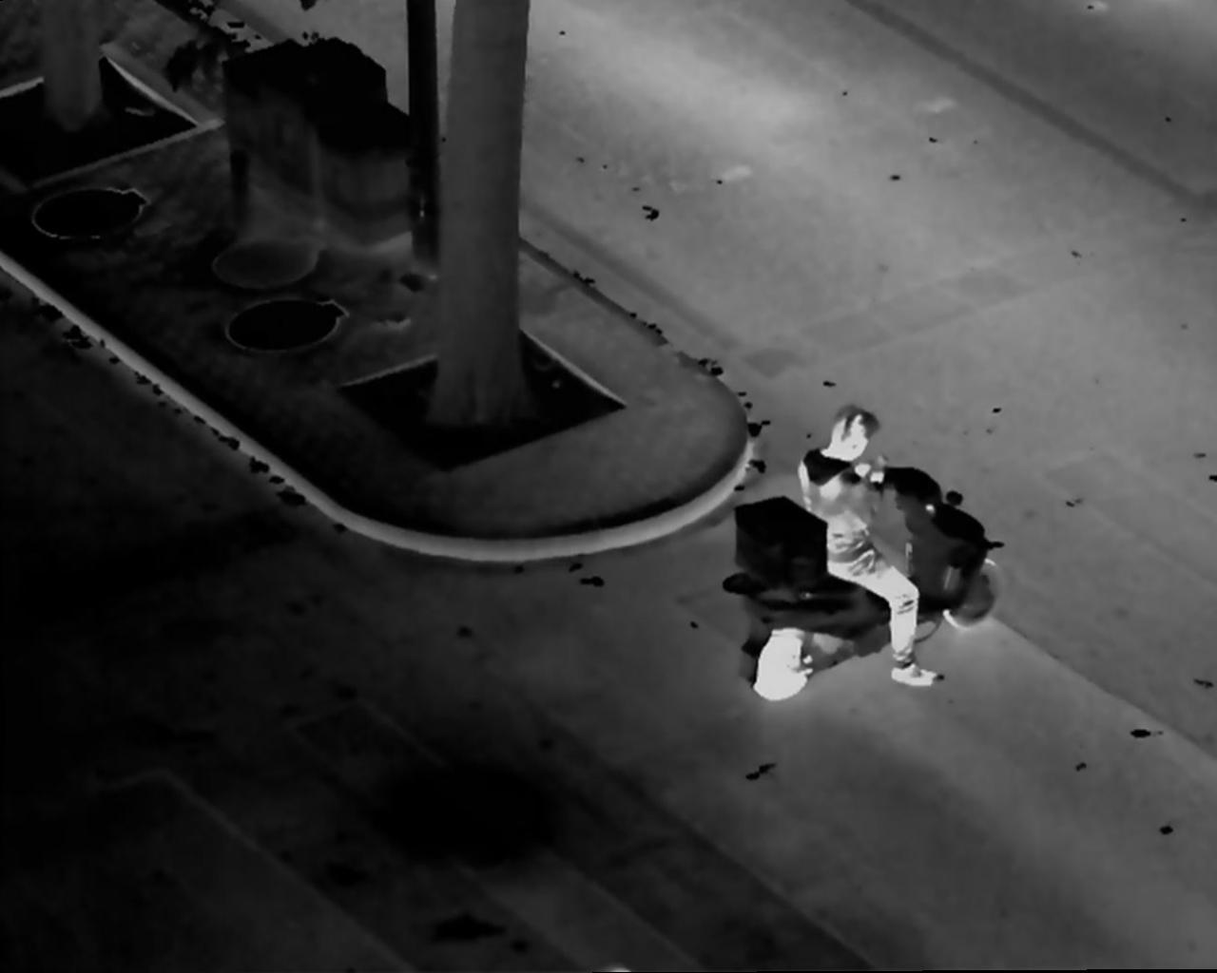person: (795, 405, 951, 691)
